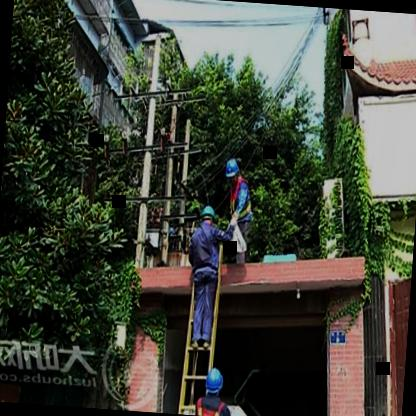helmet: (202, 364, 225, 400), (221, 154, 244, 186), (198, 202, 218, 226)
